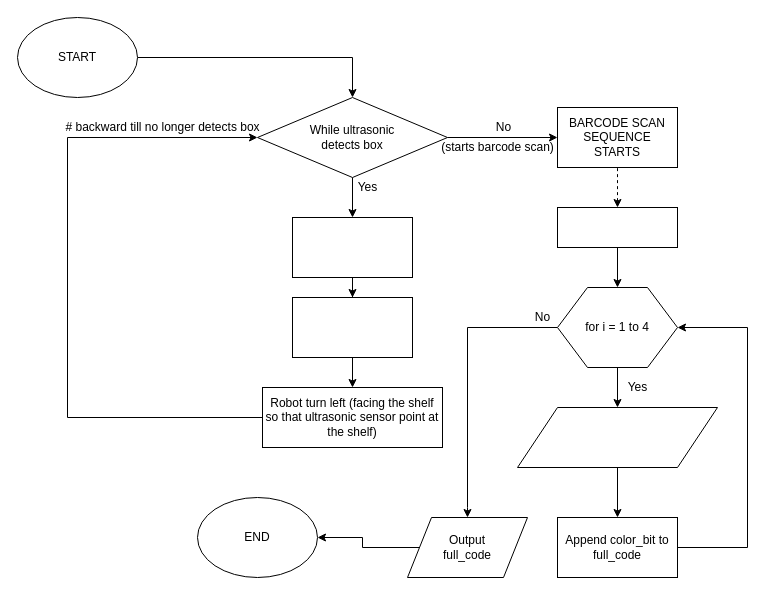
This 773x595 diagram has some shape labels left out. Here are the shapes that lost their labels. From the top down, the centre of each, then its label:
the point at 352,247: Robot turn right (facing the hallway)
the point at 617,227: full_code = empty list
the point at 352,327: Robot go backward 1 step
the point at 617,437: Input: Read color_bit (1 for white, 2 for black)
